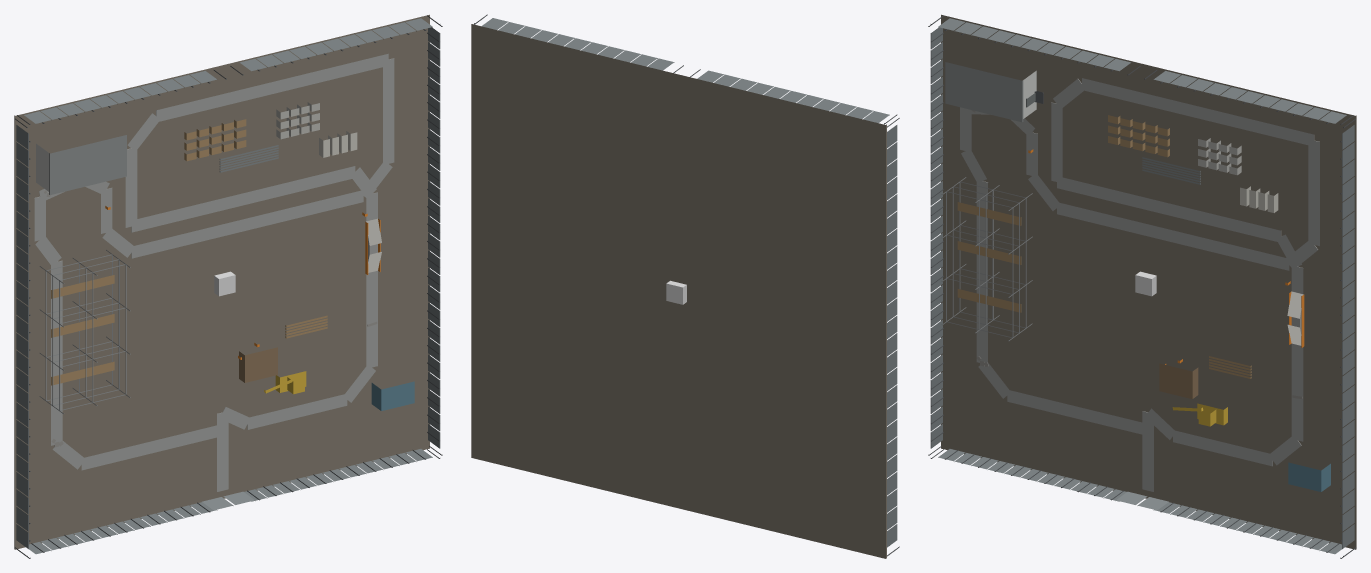
The model's file is construction_site_m1.glb.
The picture shows the model from 3 angles, left to right: view 1: azimuth 30°, elevation 25°; view 2: azimuth 150°, elevation 25°; view 3: azimuth 330°, elevation 25°; orthographic projection.
Parts seen in each view (by area): view 1: VIS_ground, VIS_office_roof, VIS_passage_14, VIS_passage_11, VIS_passage_17, VIS_passage_02, VIS_passage_04, VIS_passage_19, VIS_passage_21, VIS_passage_13, VIS_spoil_pile, VIS_waste_skip (+8 smaller); view 2: VIS_ground; view 3: VIS_ground, VIS_office_roof, VIS_passage_14, VIS_passage_11, VIS_passage_17, VIS_passage_02, VIS_passage_04, VIS_passage_19, VIS_passage_21, VIS_passage_13, VIS_spoil_pile, VIS_waste_skip (+6 smaller).
Part boxes in pixels (x1,y1,x2,y2): VIS_ground: (14, 14, 429, 549); VIS_office_roof: (49, 135, 126, 195); VIS_passage_14: (156, 53, 388, 121); VIS_passage_11: (131, 190, 363, 258); VIS_passage_17: (131, 166, 355, 232); VIS_passage_02: (81, 424, 222, 470); VIS_passage_04: (51, 260, 62, 445); VIS_passage_19: (366, 192, 377, 368); VIS_passage_21: (247, 394, 347, 429); VIS_passage_13: (383, 58, 394, 163); VIS_spoil_pile: (239, 347, 277, 382); VIS_waste_skip: (371, 381, 414, 410); VIS_ground: (471, 24, 886, 558); VIS_ground: (941, 14, 1356, 549); VIS_office_roof: (945, 62, 1023, 122); VIS_passage_14: (1082, 78, 1314, 146); VIS_passage_11: (1057, 203, 1289, 270); VIS_passage_17: (1057, 176, 1281, 242); VIS_passage_02: (1007, 389, 1148, 434); VIS_passage_04: (976, 180, 987, 362); VIS_passage_19: (1291, 266, 1303, 441); VIS_passage_21: (1173, 430, 1272, 466); VIS_passage_13: (1308, 139, 1319, 246); VIS_spoil_pile: (1159, 363, 1198, 399); VIS_waste_skip: (1288, 462, 1330, 491).
Bounding box in the file's own units: 15.28 × 15.28 × 1.83.
